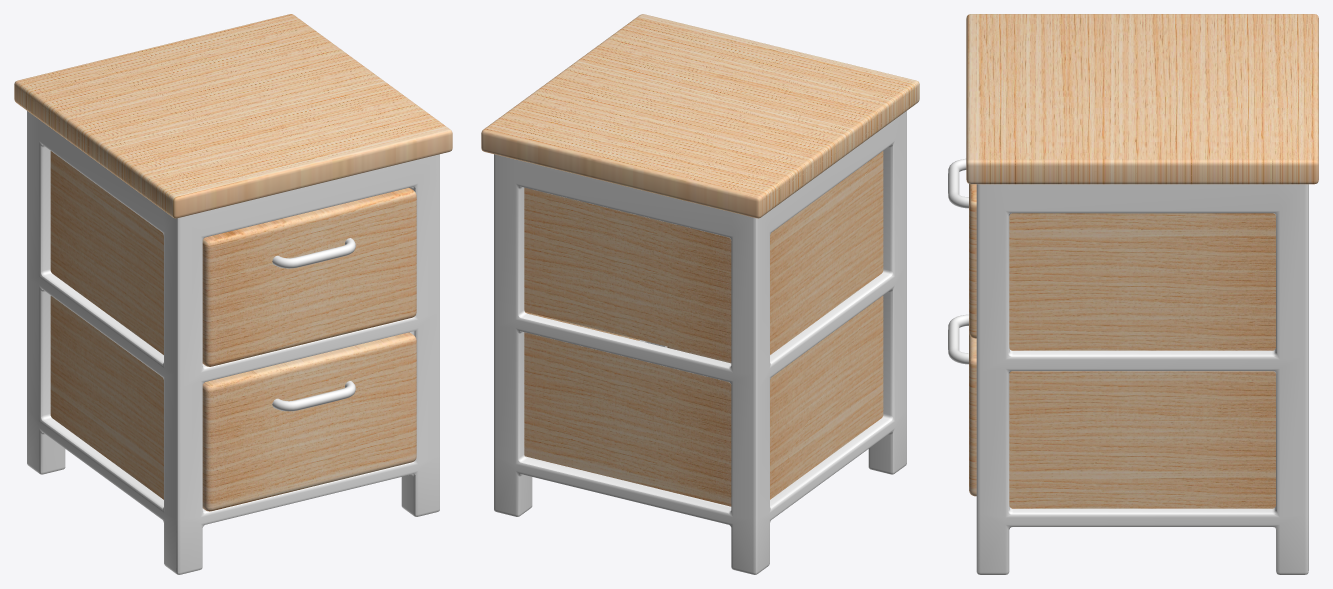
The model's file is 흰서랍.fbx.
3 views of the same model, side by side, from view 1: azimuth 30°, elevation 25°; view 2: azimuth 150°, elevation 25°; view 3: azimuth 270°, elevation 25° (orthographic). The views are drawn at different scales.
Parts seen in each view (by area): view 1: Object003, Object002, Box001, Object001, Cylinder003, Cylinder002; view 2: Box001, Object002, Object003, Object001; view 3: Object001, Object002, Box001, Object003, Cylinder003, Cylinder002.
Boxes of the visible parts, x1=… form: Object003: x1=202, y1=188, x2=416, y2=511; Object002: x1=14, y1=14, x2=452, y2=218; Box001: x1=27, y1=111, x2=439, y2=574; Object001: x1=50, y1=151, x2=409, y2=499; Cylinder003: x1=272, y1=381, x2=355, y2=411; Cylinder002: x1=272, y1=238, x2=355, y2=268; Box001: x1=494, y1=111, x2=906, y2=574; Object002: x1=481, y1=14, x2=919, y2=218; Object003: x1=524, y1=187, x2=731, y2=506; Object001: x1=525, y1=151, x2=883, y2=499; Object001: x1=1009, y1=213, x2=1275, y2=508; Object002: x1=966, y1=14, x2=1318, y2=184; Box001: x1=976, y1=184, x2=1308, y2=574; Object003: x1=969, y1=184, x2=976, y2=496; Cylinder003: x1=948, y1=314, x2=968, y2=364; Cylinder002: x1=948, y1=158, x2=968, y2=208.
Bounding box in the file's own units: 38.69 × 50.71 × 40.71.
